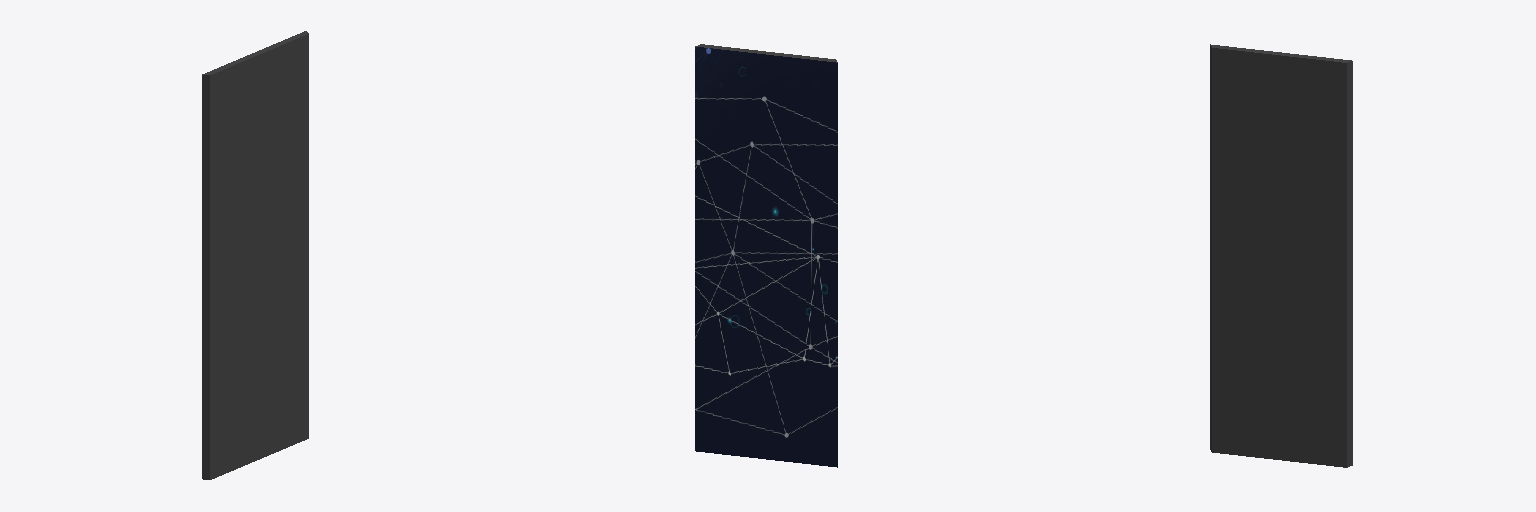
3 renders of one model, left to right at view 1: azimuth 30°, elevation 25°; view 2: azimuth 150°, elevation 25°; view 3: azimuth 330°, elevation 25°, orthographic.
Parts seen in each view (by area): view 1: Mesh157_Component_16_1_Group142_Group129_Model; view 2: Mesh157_Component_16_1_Group142_Group129_Model; view 3: Mesh157_Component_16_1_Group142_Group129_Model.
Boxes of the visible parts, x1=… form: Mesh157_Component_16_1_Group142_Group129_Model: x1=202, y1=31, x2=308, y2=479; Mesh157_Component_16_1_Group142_Group129_Model: x1=695, y1=44, x2=837, y2=467; Mesh157_Component_16_1_Group142_Group129_Model: x1=1210, y1=44, x2=1352, y2=467.
Bounding box in the file's own units: 40.2 × 126 × 12.39.
2 materials, 1 textured.